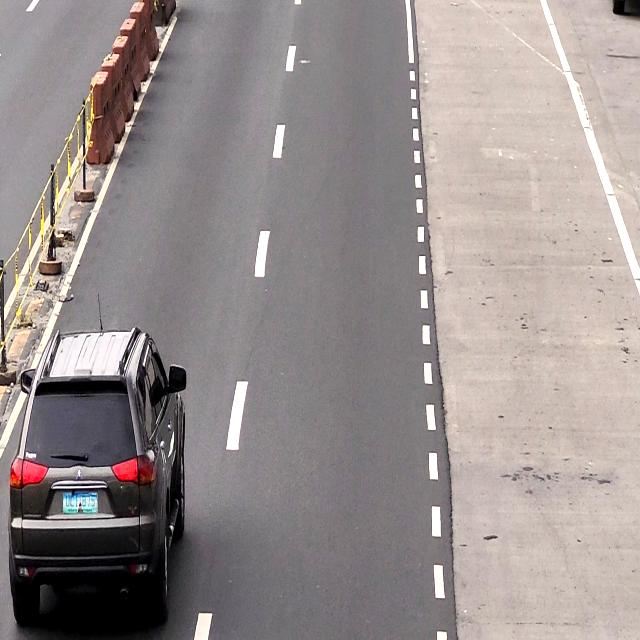Car: (17, 333, 180, 617)
License-Plate: (59, 489, 100, 515)
